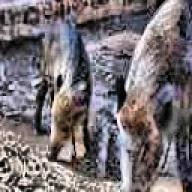boar: (112, 0, 192, 192), (31, 15, 93, 167)
